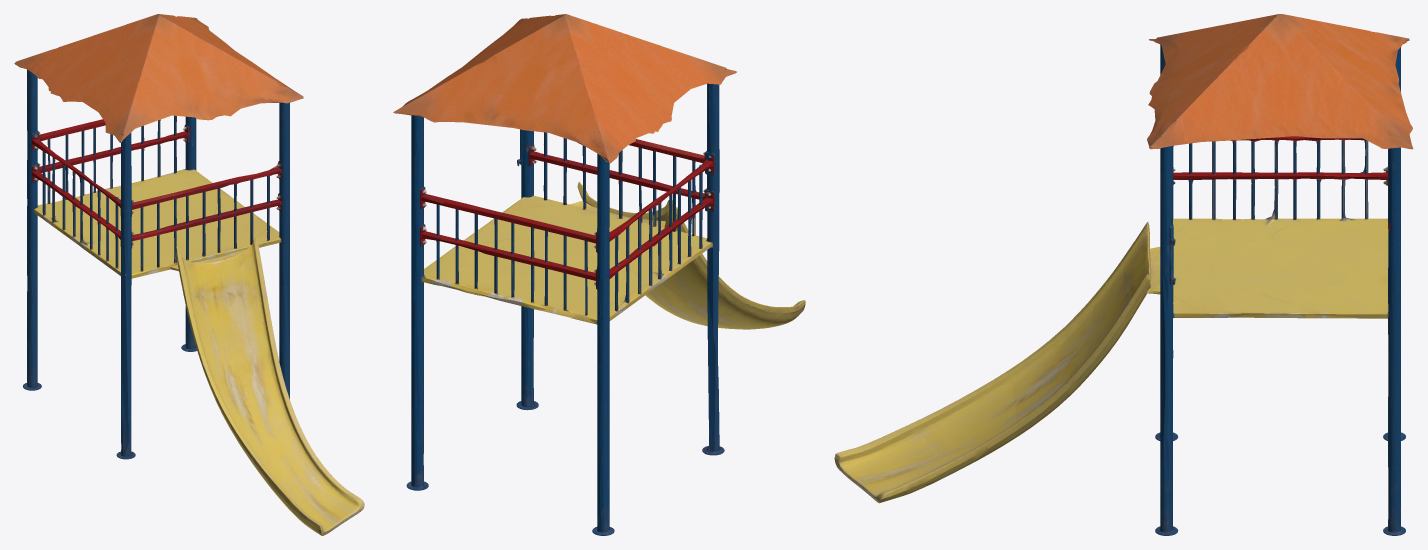
File: modulo_arancio.glb
3 renders of one model, left to right at view 1: azimuth 30°, elevation 25°; view 2: azimuth 150°, elevation 25°; view 3: azimuth 270°, elevation 25°, orthographic. The views are drawn at different scales.
Visible parts, largest first — view 1: Mesh_0; view 2: Mesh_0; view 3: Mesh_0.
Part boxes in pixels (x1,y1,x2,y2): Mesh_0: (14, 14, 364, 535); Mesh_0: (393, 14, 805, 535); Mesh_0: (834, 14, 1413, 535).
Size of the model in its own units: 0.8557 by 1.7 by 1.9.
1 material, 1 textured.
